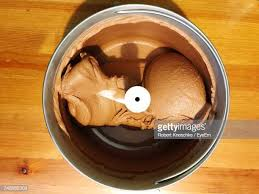ice-cream: (61, 59, 136, 127), (147, 54, 209, 130)
